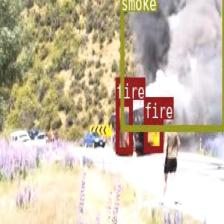fire: (115, 99, 132, 152), (144, 119, 162, 151)
smoke: (120, 0, 224, 131)
